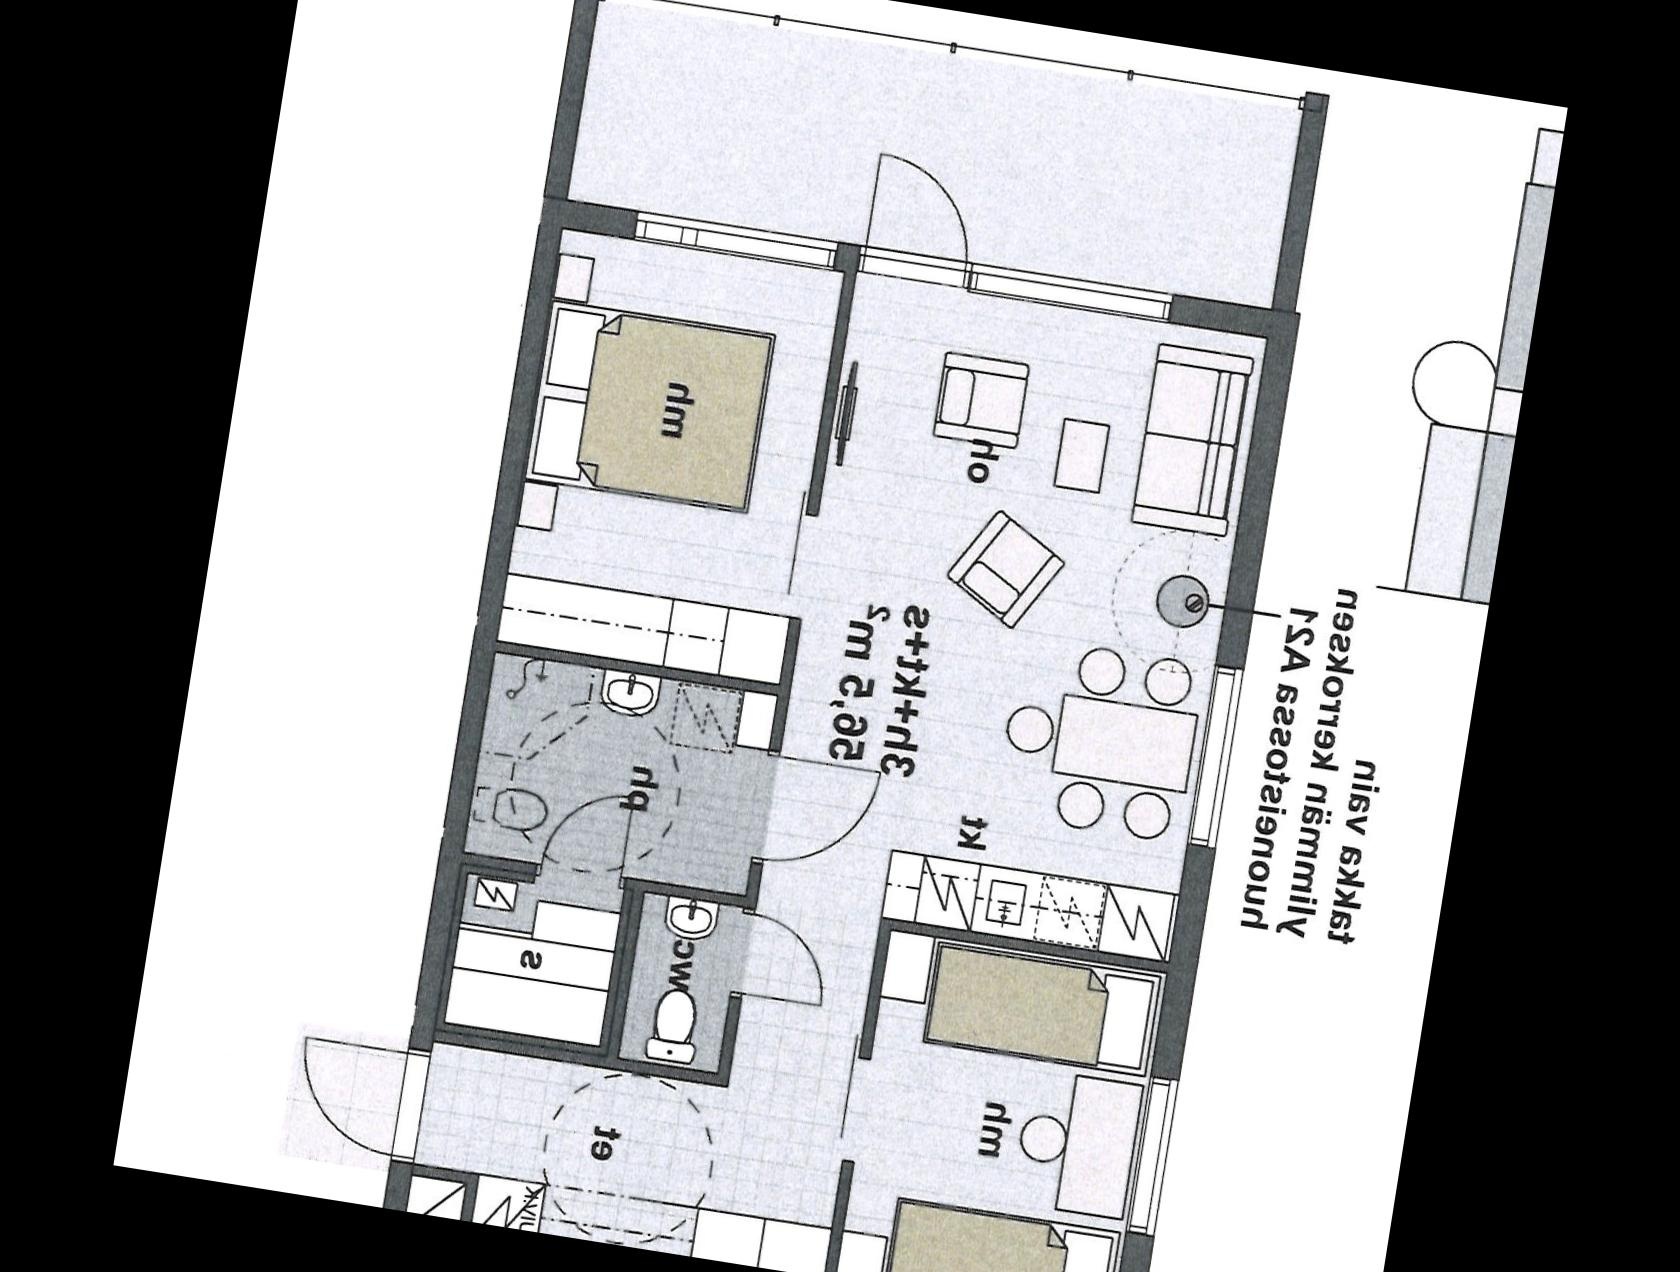door: (847, 138, 990, 302), (282, 1026, 437, 1168), (741, 743, 885, 882), (722, 903, 836, 1014)
window: (616, 195, 845, 274), (954, 254, 1185, 331), (1171, 648, 1251, 863), (1126, 1062, 1186, 1251)
